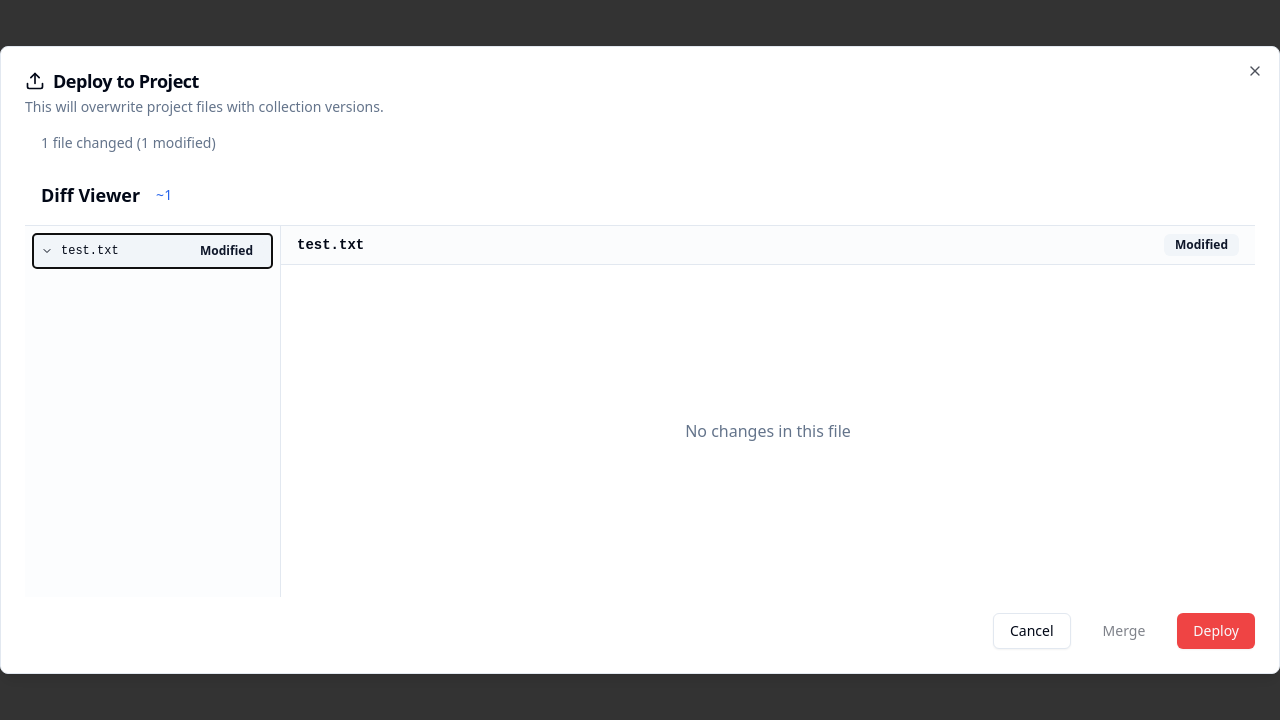
it: SyncConfirmationDialog › Merge button gating › shows tooltip when merge is disabled
Hover over the button with aria-label "Merge unavailable" at (1124, 631), box [1087,613,1161,649]
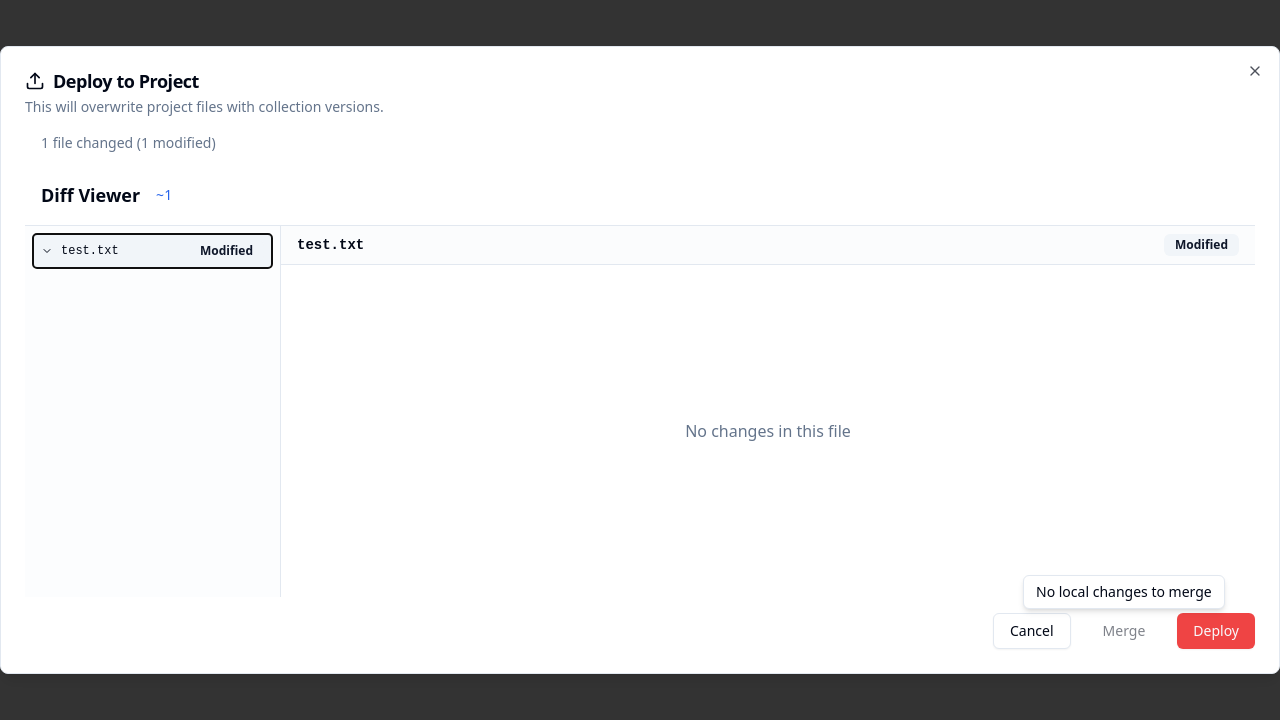
Expected: the text "No local changes to merge" is shown, [1036,582,1212,602]
